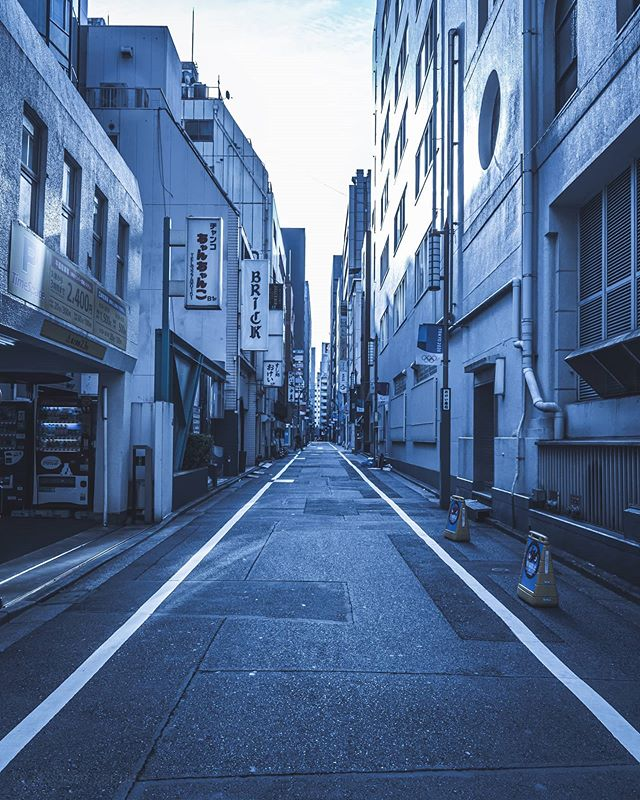building: (337, 1, 640, 592), (1, 3, 296, 603)
sign: (230, 254, 276, 358), (183, 216, 221, 310), (259, 347, 291, 394)
street: (22, 436, 631, 797)
